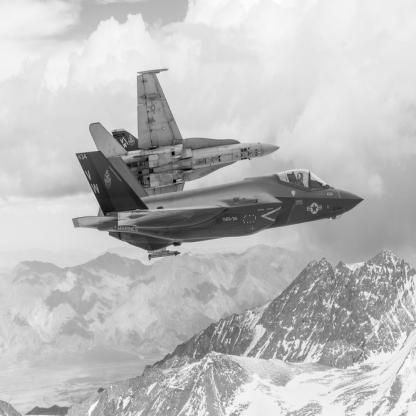F18: (90, 69, 281, 262)
F35: (72, 152, 366, 253)
